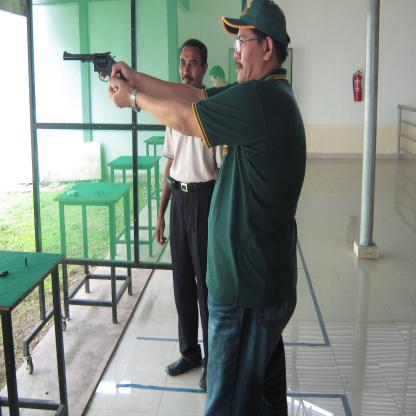handgun: (62, 46, 122, 84)
